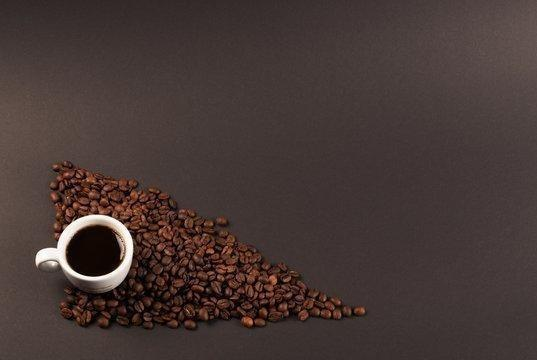cup-handle: (34, 213, 135, 295)
